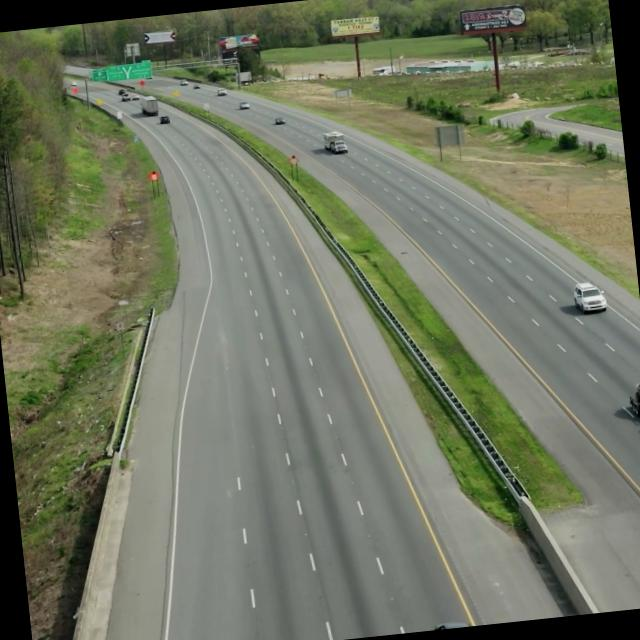Vehicle: (566, 278, 612, 320), (318, 126, 351, 157)
